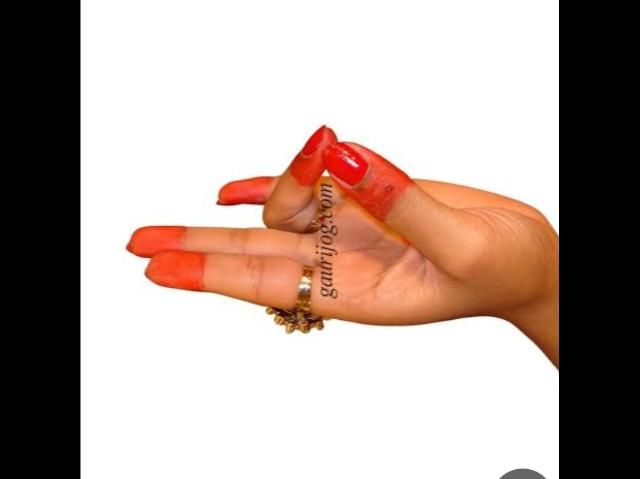mayur: (127, 122, 560, 370), (120, 109, 546, 342)
